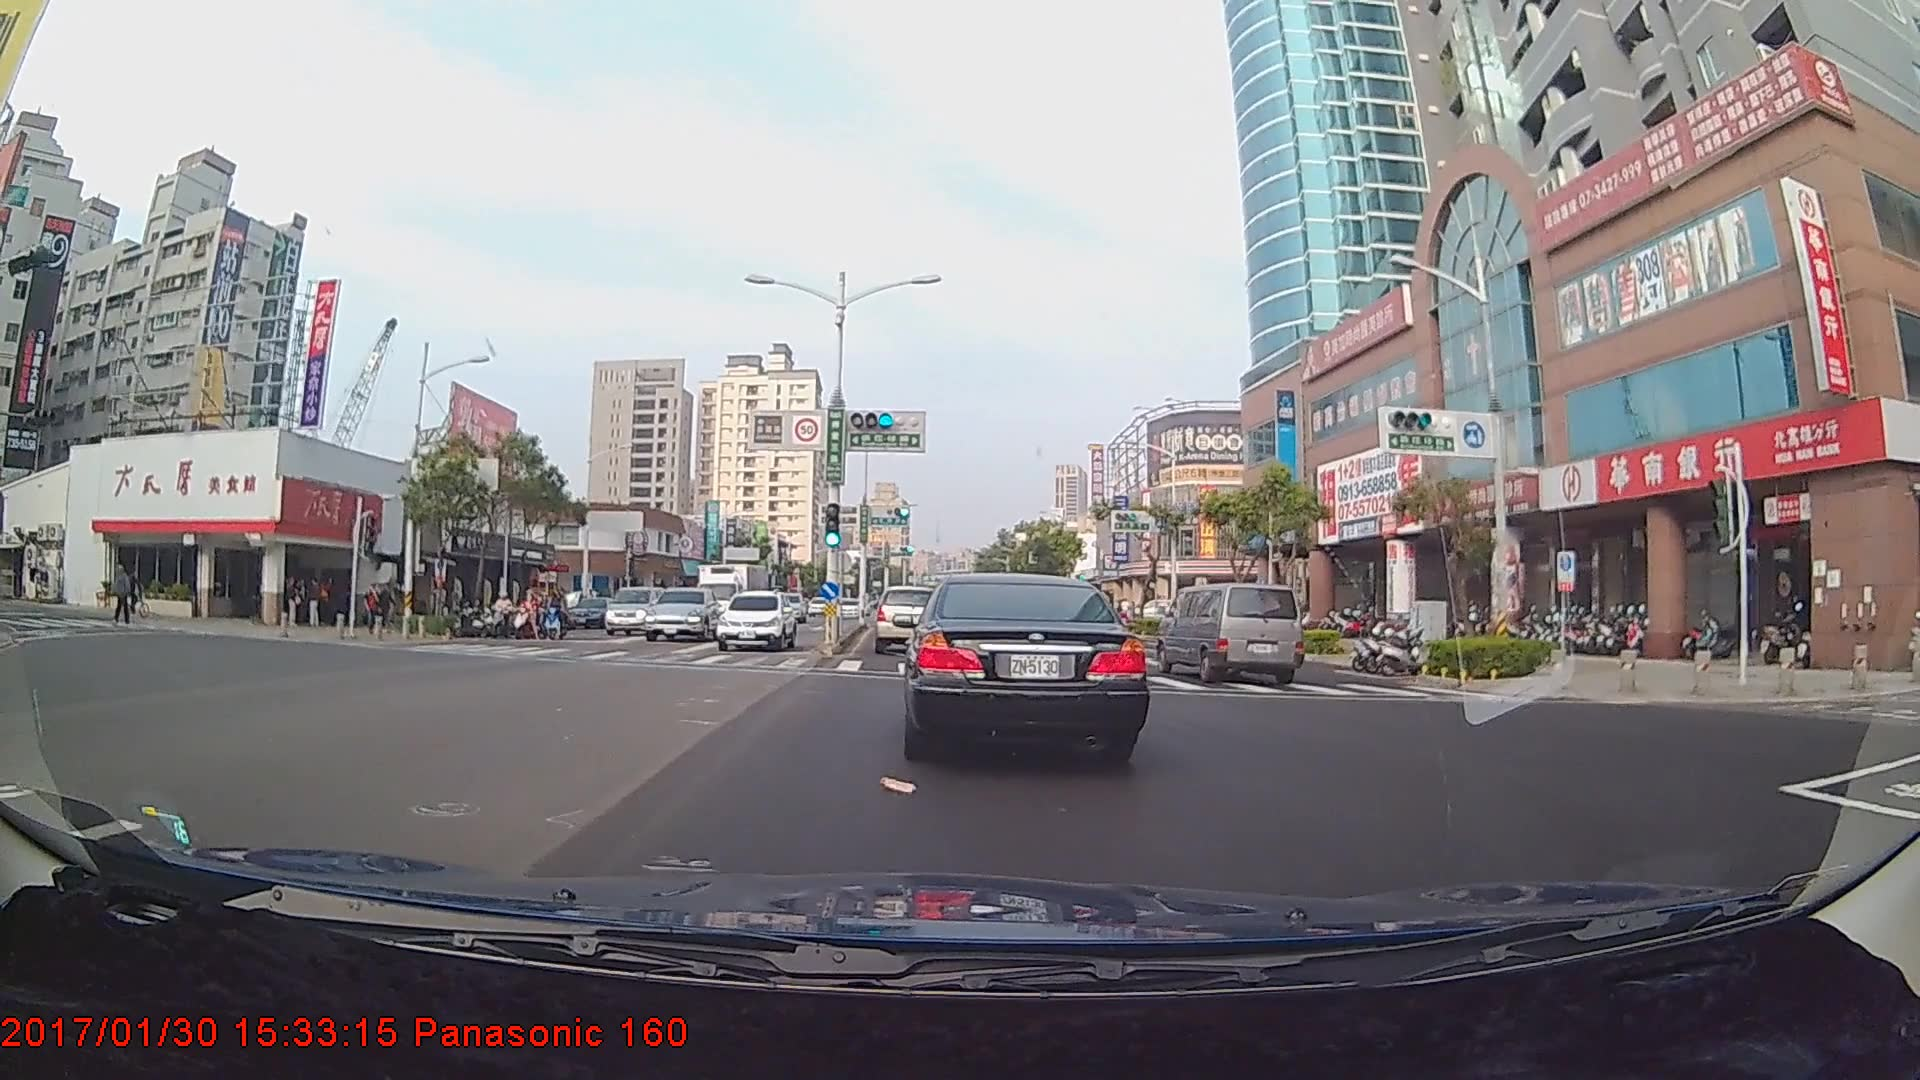pedestrian: (113, 563, 133, 625), (278, 574, 299, 632), (302, 578, 323, 630), (361, 582, 381, 636)
rider: (536, 584, 575, 644), (483, 591, 517, 642), (509, 590, 540, 641)
vehicle: (903, 569, 1142, 759), (1163, 580, 1304, 687), (694, 560, 773, 636), (715, 590, 797, 651), (871, 583, 942, 654), (643, 586, 717, 642), (599, 584, 663, 638)
